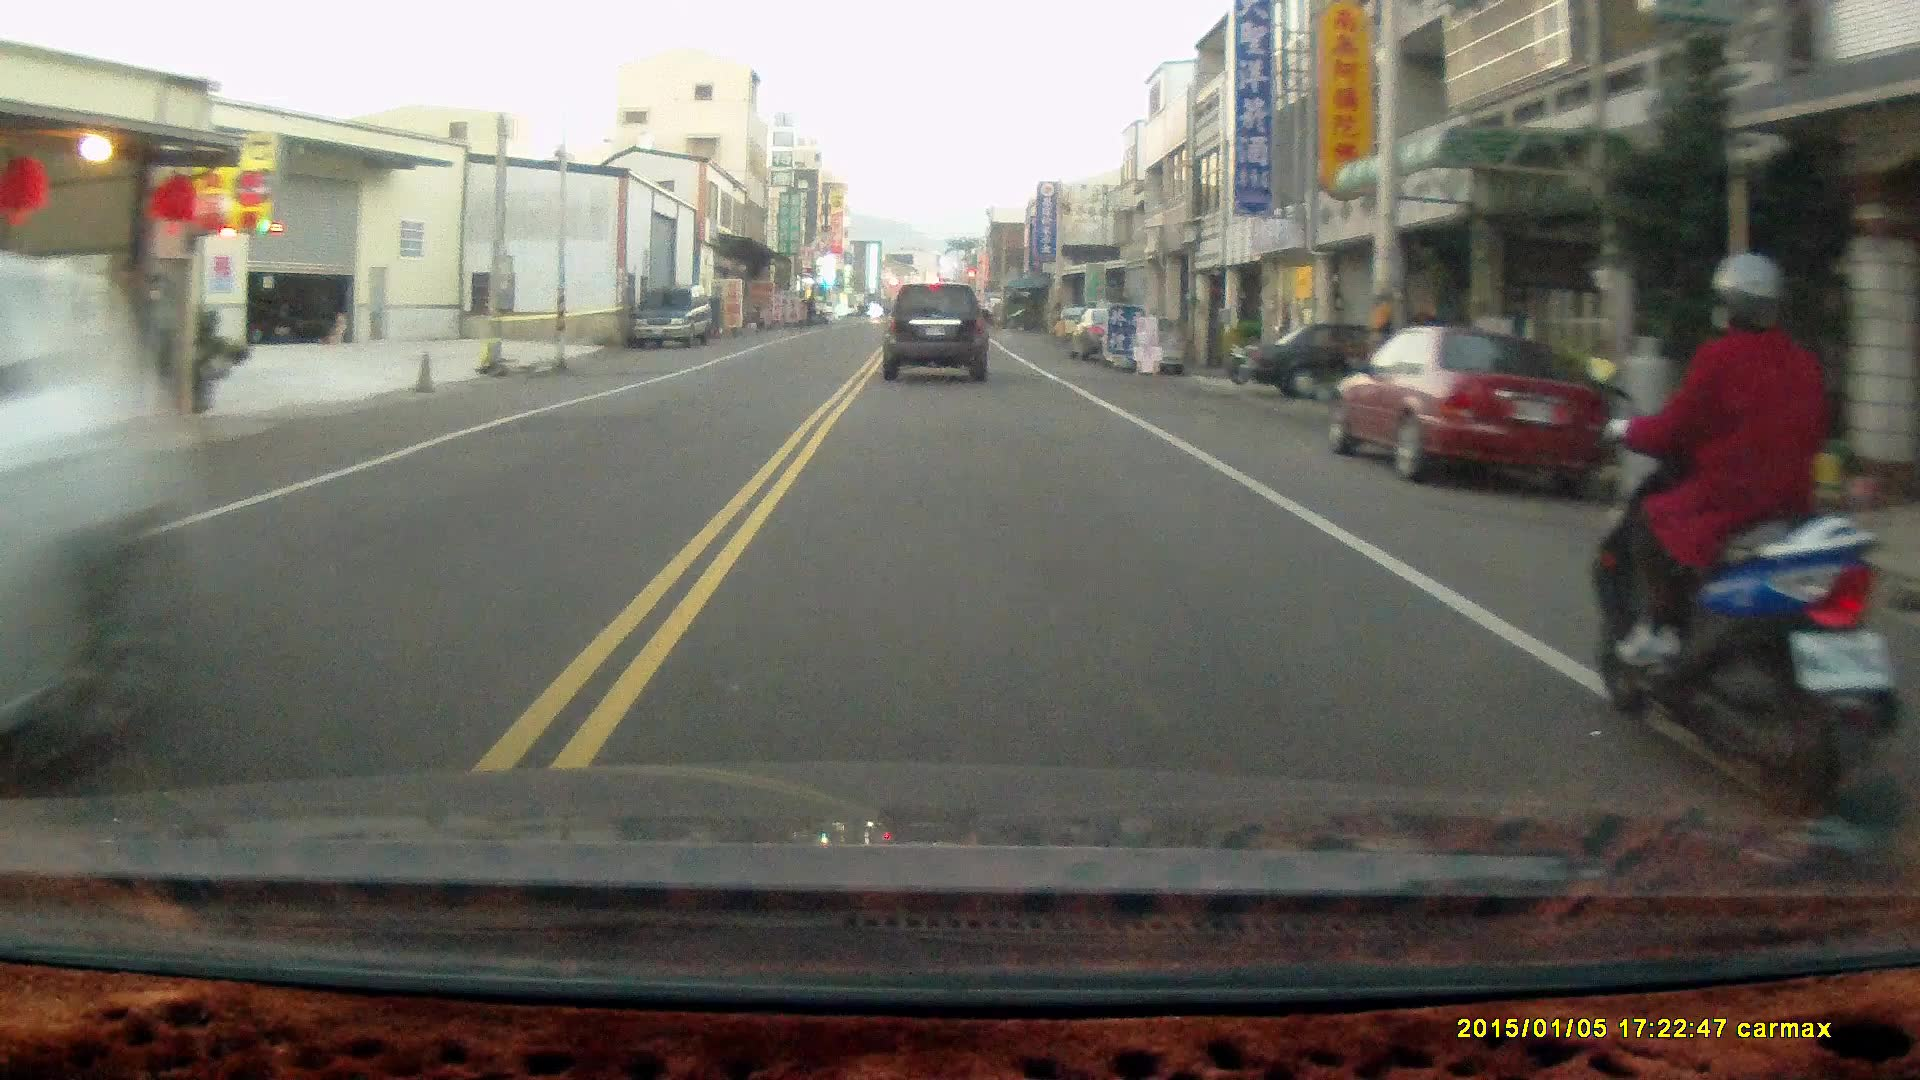rider: (1587, 247, 1897, 825)
vehicle: (1, 245, 208, 790), (1337, 319, 1624, 500), (1233, 317, 1456, 403), (884, 280, 992, 384), (626, 286, 720, 349)
